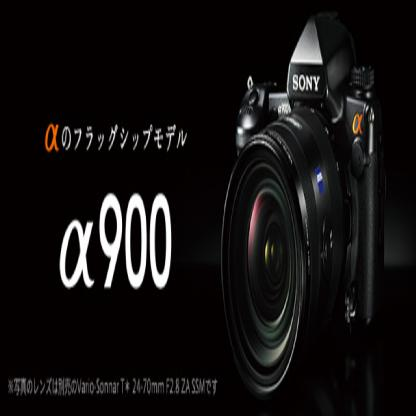Camera: (222, 14, 387, 392)
